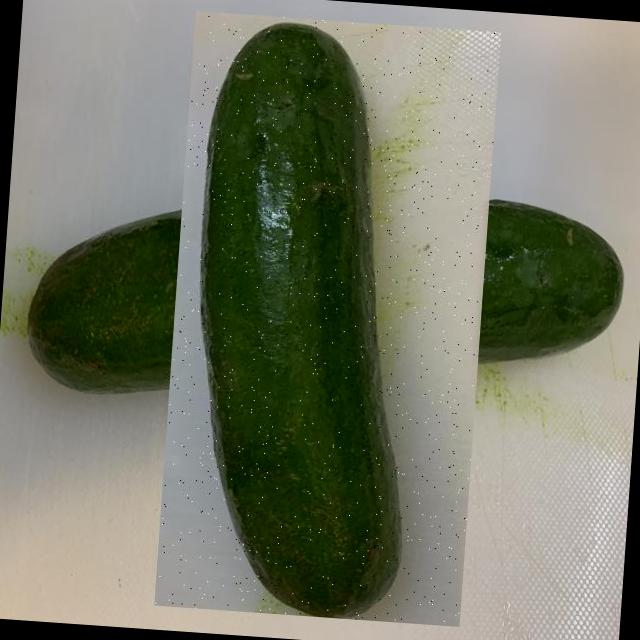Cucumber: (172, 16, 439, 624)
